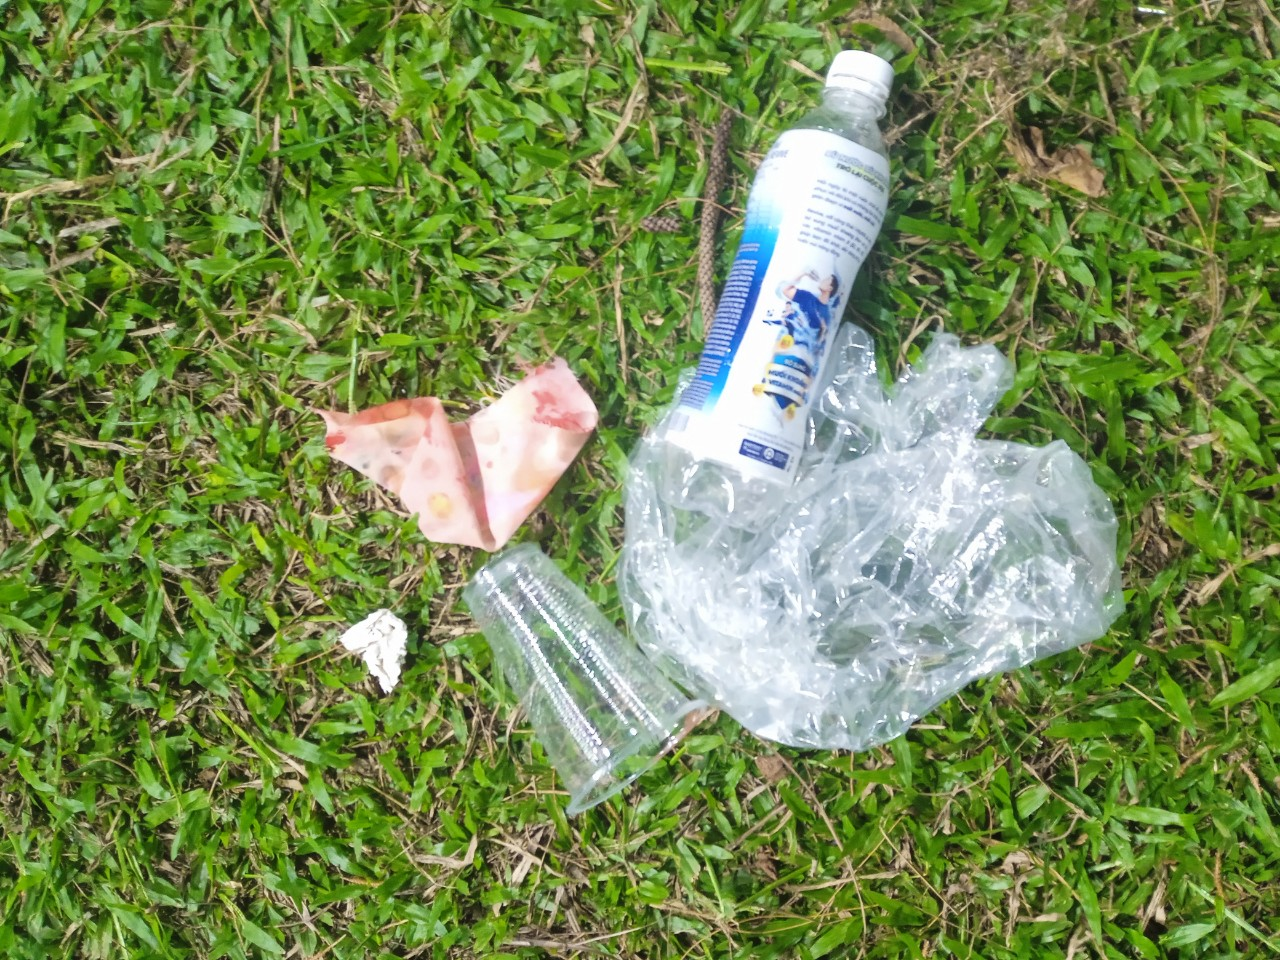paper: (304, 365, 644, 546), (332, 594, 428, 724)
plastic: (630, 27, 940, 535), (464, 544, 692, 841)
plastic bag: (625, 317, 1162, 751), (632, 678, 846, 753)
